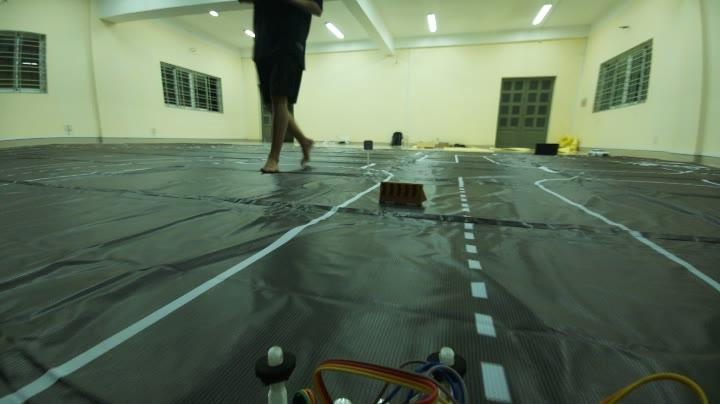roadblock: (375, 174, 432, 213)
